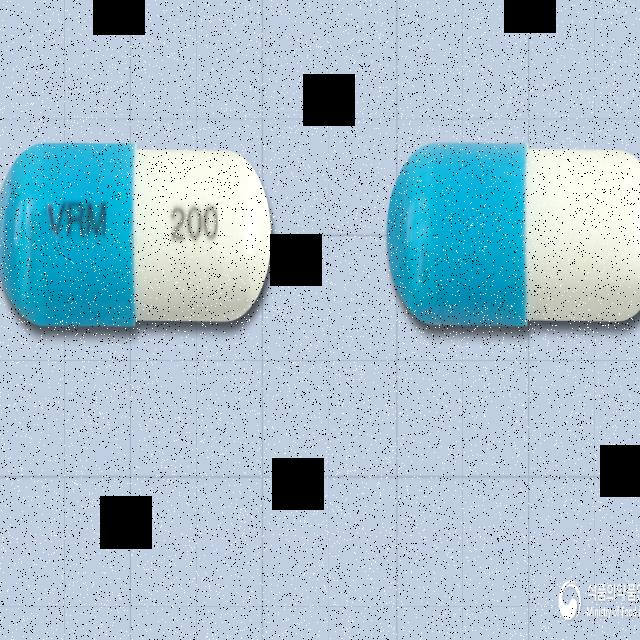Viramid Cap-200mg: (0, 138, 272, 330)
